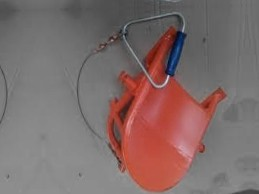chock: (103, 24, 231, 194)
